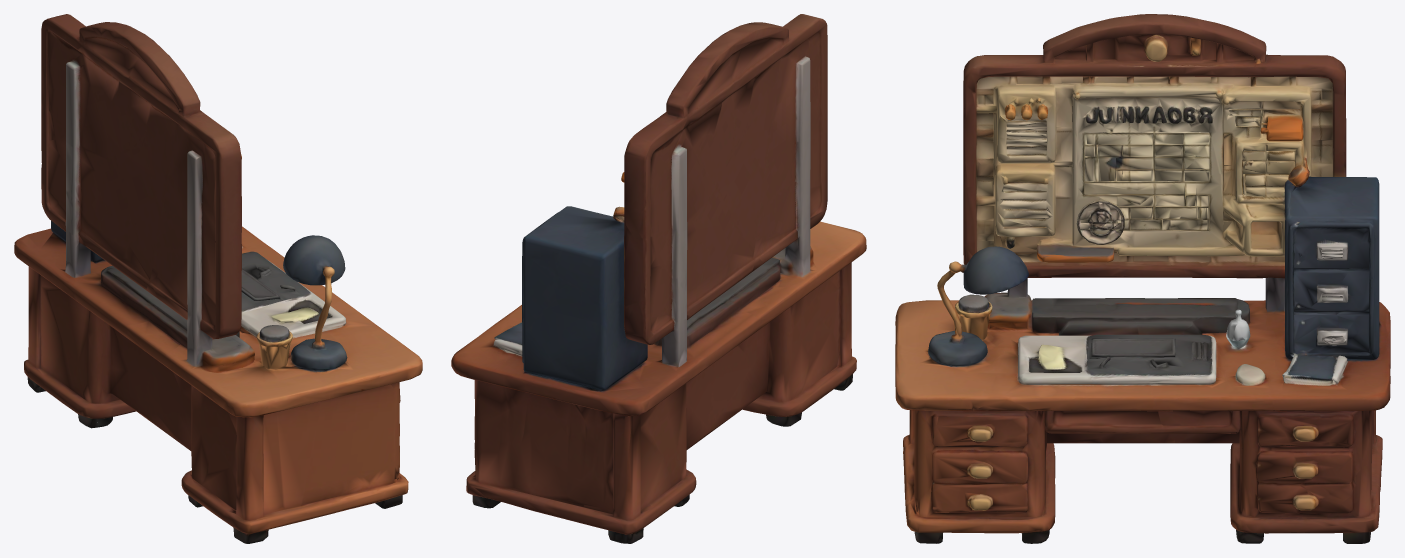
File: tripo_h31_detective_office_desk_kit.glb
The picture shows the model from 3 angles, left to right: view 1: azimuth 30°, elevation 25°; view 2: azimuth 150°, elevation 25°; view 3: azimuth 270°, elevation 25°; orthographic projection. The views are drawn at different scales.
Visible parts, largest first — view 1: tripo_node_6f6c889d-8f01-4692-a3b1-c0a106c1af66; view 2: tripo_node_6f6c889d-8f01-4692-a3b1-c0a106c1af66; view 3: tripo_node_6f6c889d-8f01-4692-a3b1-c0a106c1af66.
Part boxes in pixels (left/top/right/bottom): tripo_node_6f6c889d-8f01-4692-a3b1-c0a106c1af66: left=14, top=14, right=422, bottom=543; tripo_node_6f6c889d-8f01-4692-a3b1-c0a106c1af66: left=451, top=14, right=866, bottom=543; tripo_node_6f6c889d-8f01-4692-a3b1-c0a106c1af66: left=895, top=14, right=1390, bottom=543.
Bounding box in the file's own units: 0.4616 × 0.975 × 0.9791.
1 material, 1 textured.
